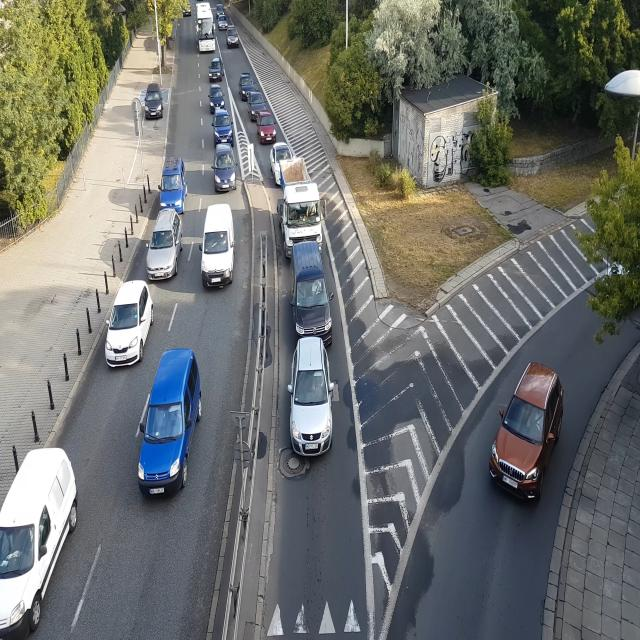bus: (195, 6, 217, 54)
car: (0, 448, 79, 625), (487, 358, 567, 511), (134, 354, 207, 502), (287, 342, 334, 466), (100, 279, 156, 369), (290, 244, 334, 338), (200, 202, 235, 290), (144, 209, 183, 280), (160, 150, 187, 203), (213, 146, 237, 194), (271, 136, 295, 174), (143, 85, 165, 120), (212, 104, 232, 141), (257, 108, 276, 144), (208, 81, 228, 108), (248, 88, 266, 118), (238, 69, 255, 95), (208, 57, 224, 82), (226, 25, 238, 48), (217, 15, 228, 30), (182, 3, 192, 18), (215, 1, 224, 13)
truck: (277, 162, 325, 255)
